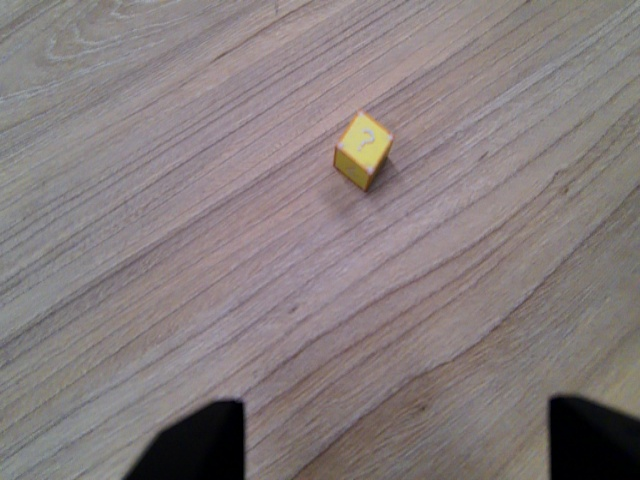lucky: (326, 105, 401, 196)
